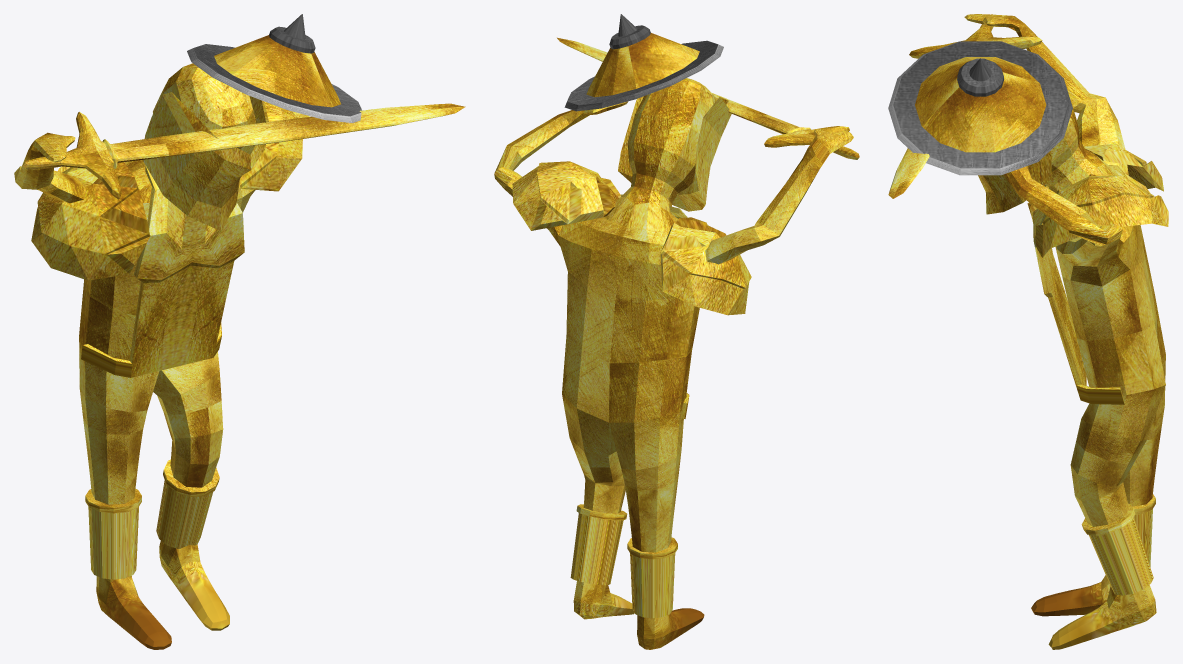
The model's file is StatuePose_03.glb.
3 renders of one model, left to right at view 1: azimuth 30°, elevation 25°; view 2: azimuth 150°, elevation 25°; view 3: azimuth 270°, elevation 25°, orthographic. The views are drawn at different scales.
Parts seen in each view (by area): view 1: knight_statue; view 2: knight_statue; view 3: knight_statue.
Part boxes in pixels (x1,y1,x2,y2): knight_statue: (14,14,465,649); knight_statue: (494,14,859,649); knight_statue: (888,14,1168,649).
Bounding box in the file's own units: 1.32 × 2.04 × 0.8504.
Materials: 2 (2 with a texture image).
